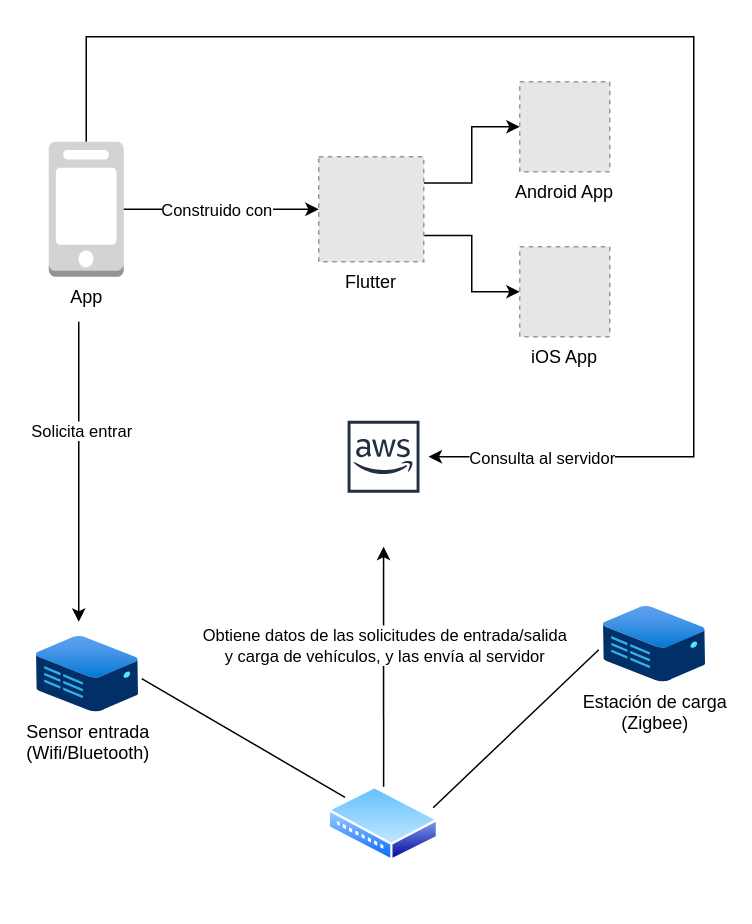
Some shapes in this 752 by 924 pixel diagram are drawn without their labels. Grey dashed boxes stand in for pictures. Each missing label, with the centre of its shape:
AWS Cloud: pixel 383 456
Hub Zigbee con Capacidades WiFi/Bluetooth: pixel 383 823
